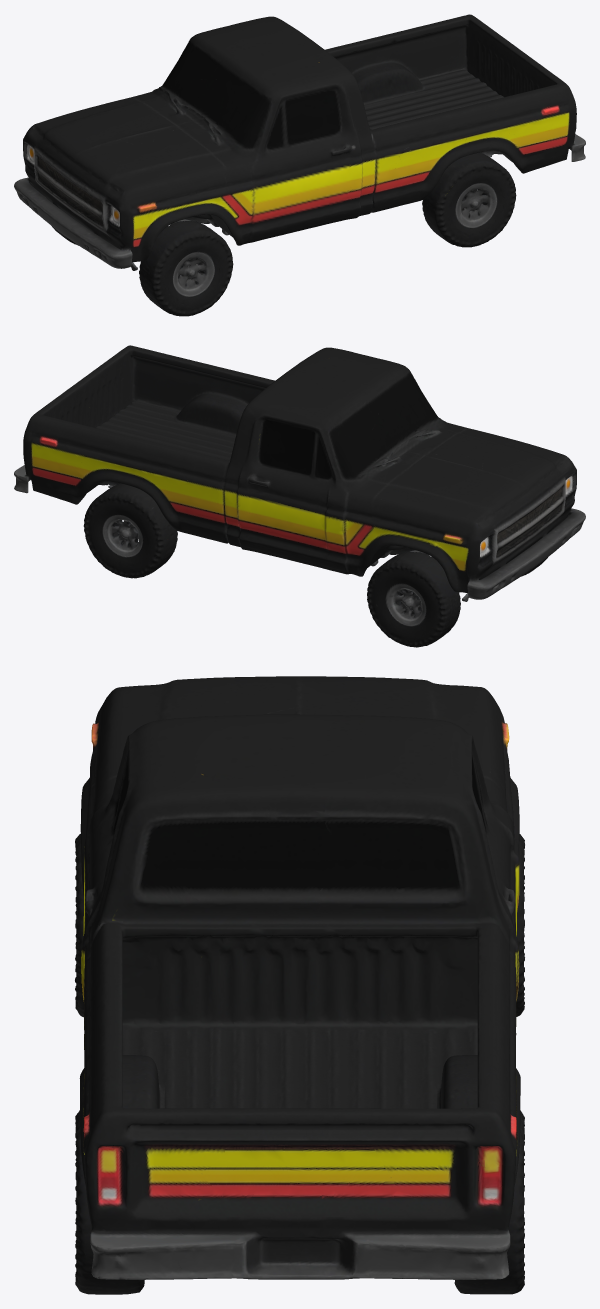
The model's file is cars_crossing_thousand.glb.
3 views of the same model, one above another, from view 1: azimuth 30°, elevation 25°; view 2: azimuth 150°, elevation 25°; view 3: azimuth 270°, elevation 25° (orthographic). The views are drawn at different scales.
Size of the model in its own units: 1.9 by 0.7374 by 0.7743.
Materials: 1 (1 with a texture image).
